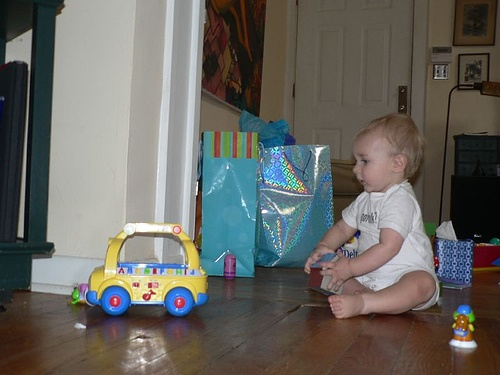head: (353, 115, 426, 192)
person: (307, 111, 442, 316)
